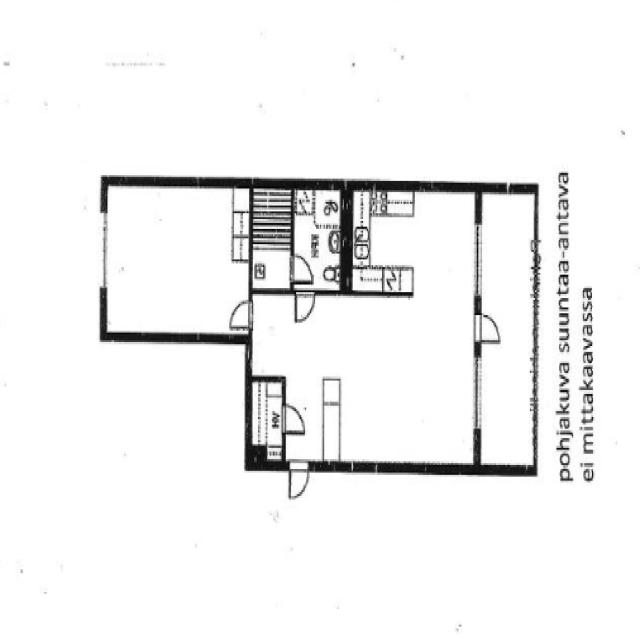door: (285, 459, 312, 502), (474, 310, 505, 346), (280, 401, 309, 436), (287, 251, 314, 283), (228, 298, 255, 329), (293, 290, 316, 324)
window: (469, 216, 488, 302), (95, 205, 113, 294), (470, 348, 484, 434)
zone: (263, 284, 483, 461), (103, 182, 250, 338), (349, 190, 480, 293), (295, 182, 344, 294), (250, 376, 284, 461), (251, 182, 293, 249), (251, 240, 291, 290)
